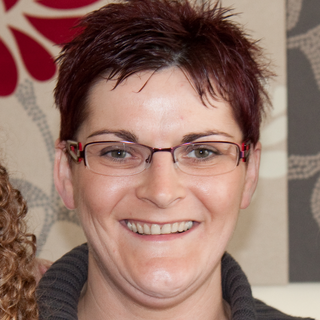eye: (97, 144, 139, 168), (178, 143, 221, 163)
